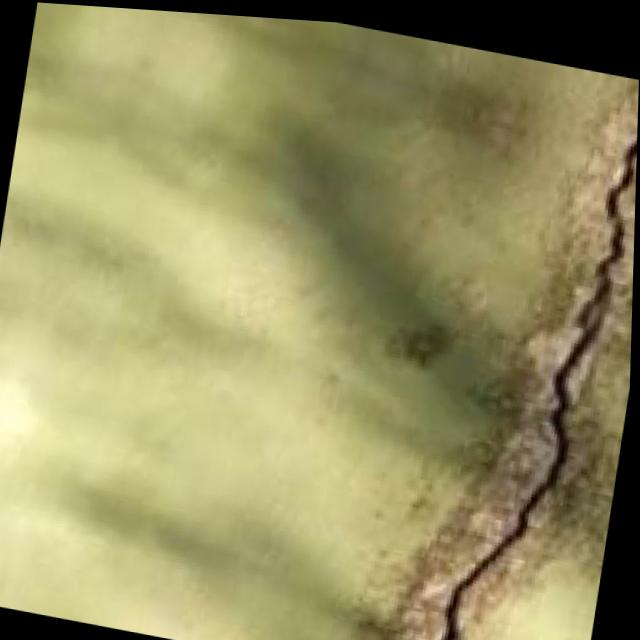Crack: (414, 42, 640, 640)
